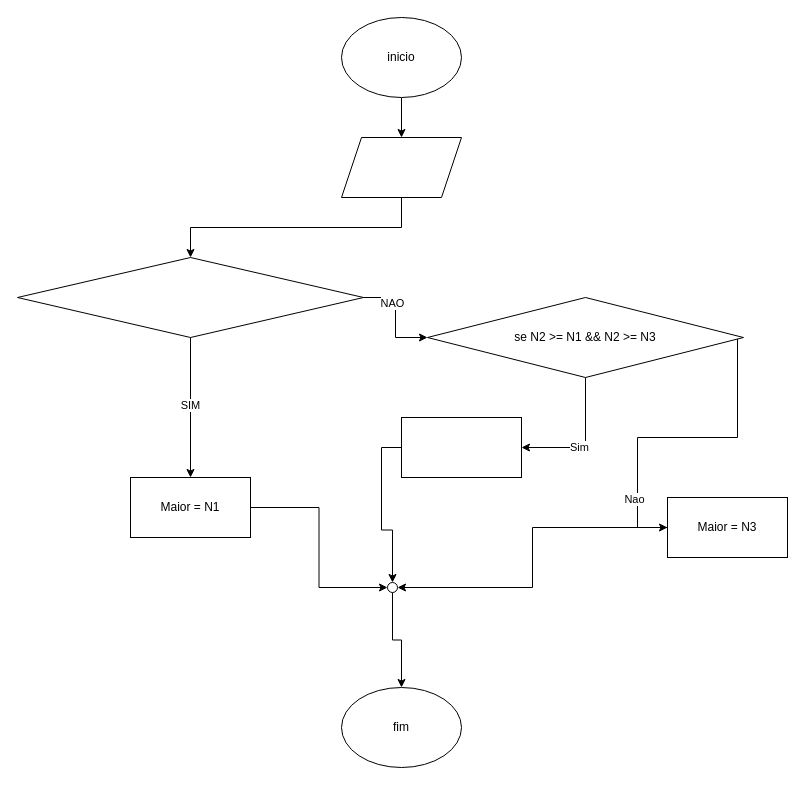
Some shapes in this 805 by 785 pixel diagram are drawn without their labels. Each missing label, with the centre of its shape:
ler n1,n2,n3: the point at 401,167
Maior = N2: the point at 461,447
se N1 >= N2 && N1 >= N3: the point at 190,297
